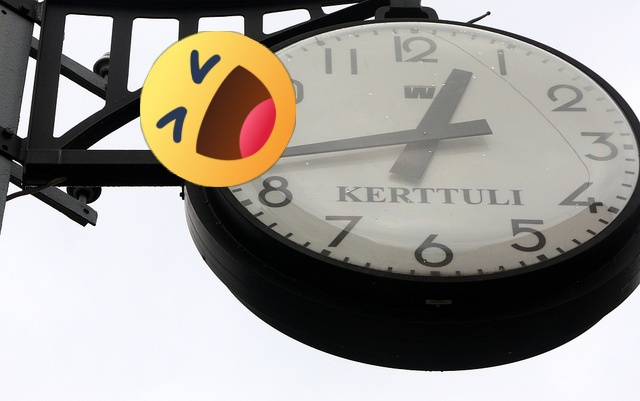haha: (140, 31, 296, 187)
